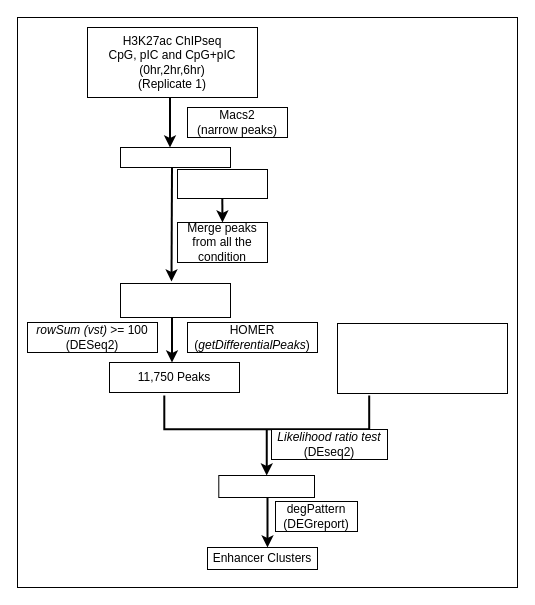
The diagram is 535 pixels wide and 605 high, and some of its shapes have lost their labels. Each missing label, with the centre of its shape:
"40K-48K peaks" belongs at point (175, 157).
"7123 Peaks" belongs at point (266, 486).
"Extend ± 2kb to Peak summit" belongs at point (222, 183).
"H3K27ac ChIPseq CpG, pIC and CpG+pIC (0hr,2hr,6hr) (Replicate 2)" belongs at point (422, 358).
"Merged peaks (n=91967)" belongs at point (175, 300).
